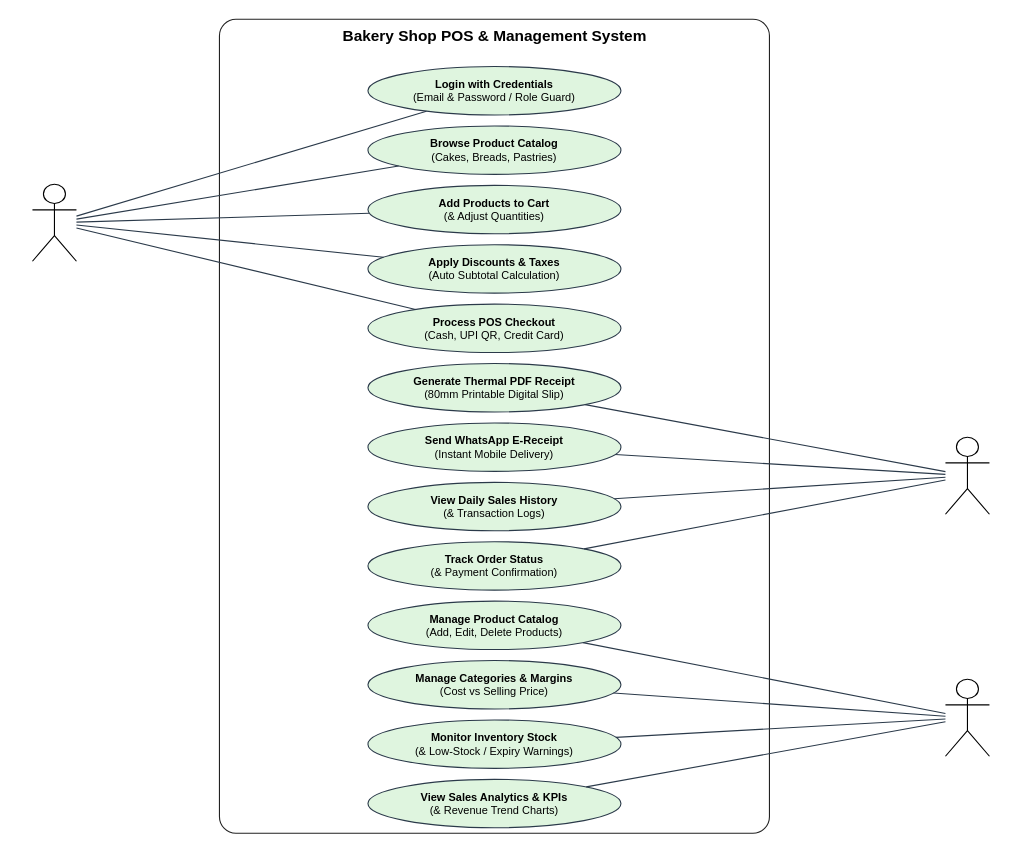
Some shapes in this 1029 by 853 pixel diagram are drawn without their labels. Each missing label, with the centre of its shape:
Bakery Owner (System Admin): (x=966, y=717)
Bakery Staff (Cashier): (x=53, y=222)
Store Manager (Supervisor): (x=966, y=475)
